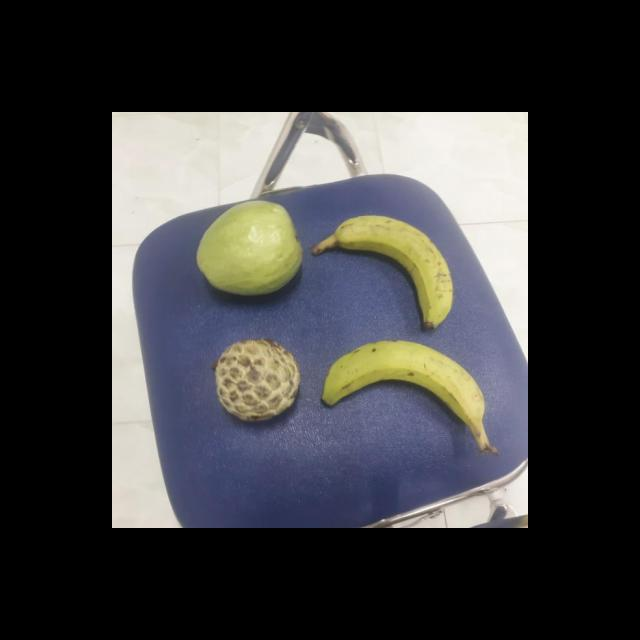Sakya fruit: (206, 339, 300, 422)
banana: (314, 342, 484, 442), (306, 217, 452, 331)
guava: (194, 197, 304, 295)
